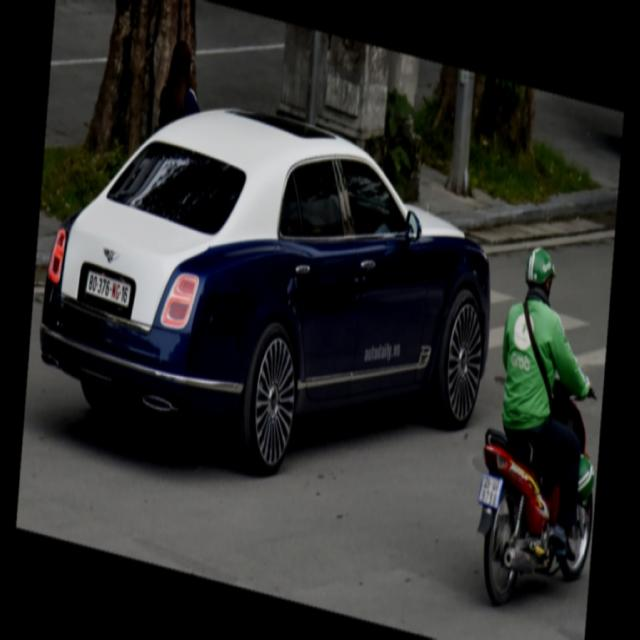bien_ngoai_giao: (86, 269, 132, 311)
bien_trang: (477, 472, 501, 511)
